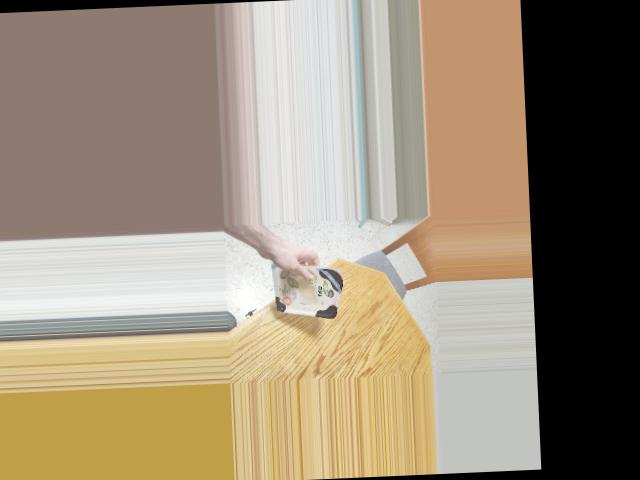cheese: (256, 262, 347, 319)
